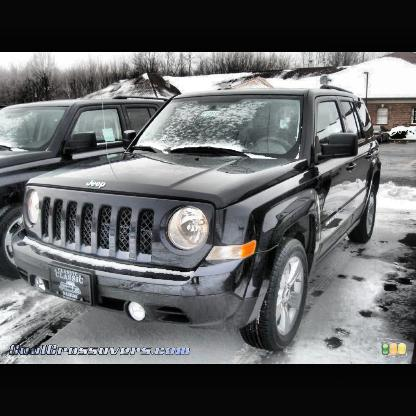Jeep Patriot SUV 2012: (5, 89, 384, 352)
